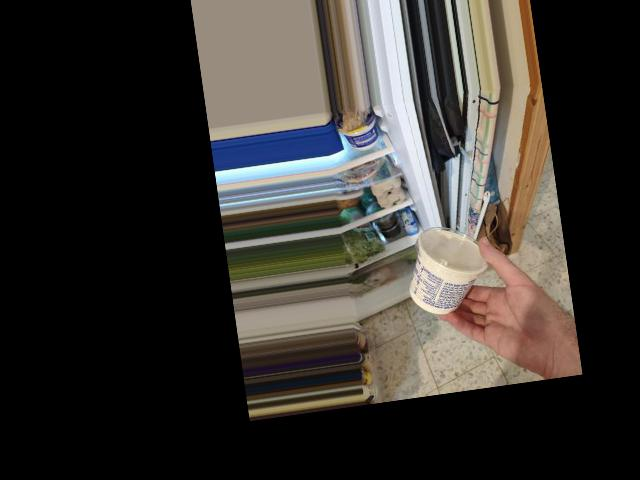cotage: (404, 218, 487, 310)
